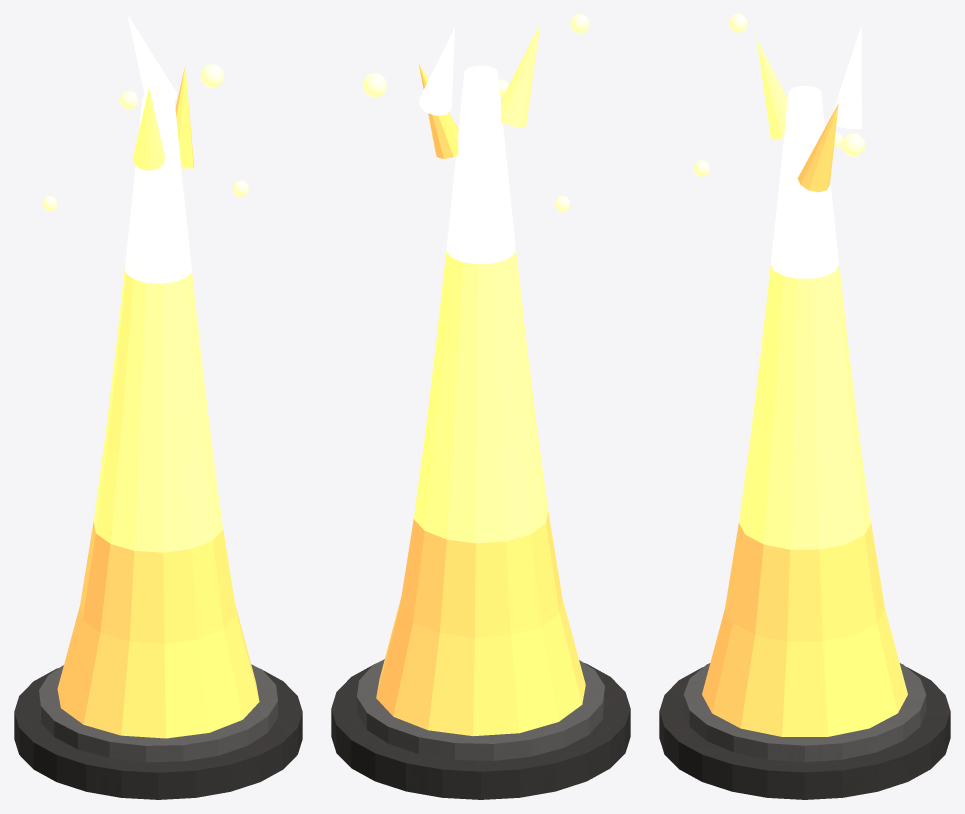
File: marker_flame.glb
The picture shows the model from 3 angles, left to right: view 1: azimuth 30°, elevation 25°; view 2: azimuth 150°, elevation 25°; view 3: azimuth 270°, elevation 25°; orthographic projection. The views are drawn at different scales.
Visible parts, largest first — view 1: marker_flame_stack_0, marker_flame_stack_1, marker_flame_plinth, marker_flame_stack_2, marker_flame_stack_3, marker_flame_collar, marker_flame_stack_4, marker_flame_stack_5, marker_flame_stack_6, marker_flame_tongue_1, marker_flame_tongue_2, marker_flame_tongue_0; view 2: marker_flame_stack_0, marker_flame_stack_1, marker_flame_plinth, marker_flame_stack_2, marker_flame_stack_3, marker_flame_collar, marker_flame_stack_4, marker_flame_stack_5, marker_flame_stack_6, marker_flame_tongue_1, marker_flame_tongue_2, marker_flame_tongue_0; view 3: marker_flame_stack_0, marker_flame_stack_1, marker_flame_plinth, marker_flame_stack_2, marker_flame_stack_3, marker_flame_collar, marker_flame_stack_4, marker_flame_stack_5, marker_flame_stack_6, marker_flame_tongue_2, marker_flame_tongue_0, marker_flame_tongue_1.
Boxes of the visible parts, x1,y1,x2,y2 form: marker_flame_stack_0: [57, 605, 259, 738]; marker_flame_stack_1: [80, 522, 236, 643]; marker_flame_plinth: [14, 668, 302, 799]; marker_flame_stack_2: [93, 436, 223, 552]; marker_flame_stack_3: [105, 352, 211, 462]; marker_flame_collar: [39, 664, 277, 762]; marker_flame_stack_4: [115, 268, 201, 372]; marker_flame_stack_5: [125, 183, 191, 283]; marker_flame_stack_6: [134, 92, 182, 194]; marker_flame_tongue_1: [133, 87, 164, 170]; marker_flame_tongue_2: [127, 14, 177, 99]; marker_flame_tongue_0: [175, 66, 194, 168]; marker_flame_stack_0: [376, 597, 585, 736]; marker_flame_stack_1: [399, 511, 562, 637]; marker_flame_plinth: [331, 663, 630, 799]; marker_flame_stack_2: [413, 424, 548, 543]; marker_flame_stack_3: [425, 336, 536, 449]; marker_flame_collar: [357, 659, 604, 760]; marker_flame_stack_4: [436, 248, 525, 356]; marker_flame_stack_5: [446, 160, 515, 264]; marker_flame_stack_6: [455, 65, 506, 171]; marker_flame_tongue_1: [501, 24, 540, 127]; marker_flame_tongue_2: [419, 28, 454, 115]; marker_flame_tongue_0: [418, 63, 458, 158]; marker_flame_stack_0: [702, 609, 907, 736]; marker_flame_stack_1: [725, 523, 884, 641]; marker_flame_plinth: [659, 667, 950, 799]; marker_flame_stack_2: [739, 437, 870, 549]; marker_flame_stack_3: [750, 351, 859, 458]; marker_flame_collar: [683, 663, 926, 762]; marker_flame_stack_4: [761, 265, 848, 368]; marker_flame_stack_5: [771, 179, 838, 278]; marker_flame_stack_6: [780, 86, 824, 188]; marker_flame_tongue_2: [832, 25, 861, 129]; marker_flame_tongue_0: [797, 103, 838, 192]; marker_flame_tongue_1: [756, 38, 787, 139].
Size of the model in its own units: 0.96 by 2.59 by 0.96.
Materials: 6 (2 with a texture image).
